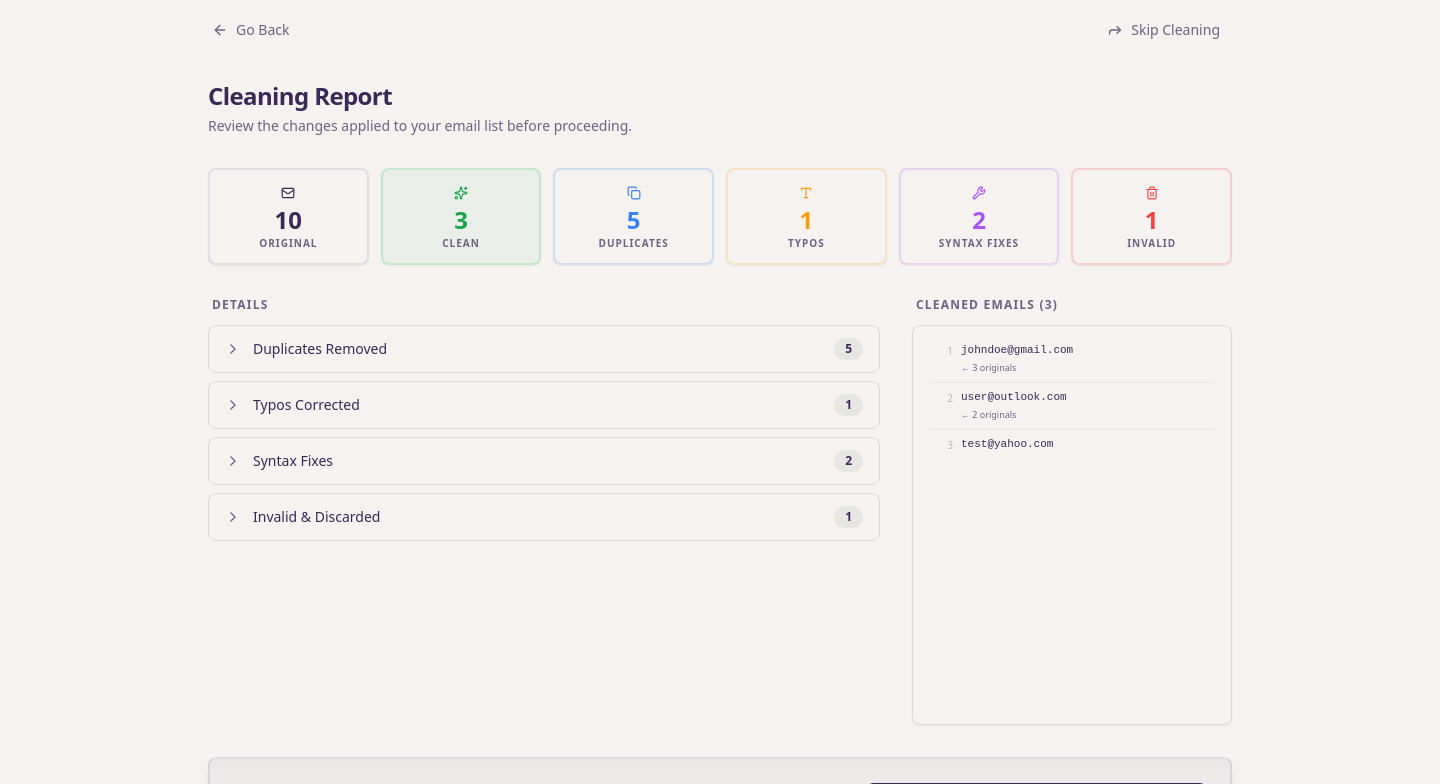
Test: CleaningReport › expands a section when clicked and shows details
The width and height of the screenshot is (1440, 784).
// Click on "Typos Corrected" section to expand it
Click the text "Typos Corrected".
click(306, 405)  # box 253,395 -> 360,415
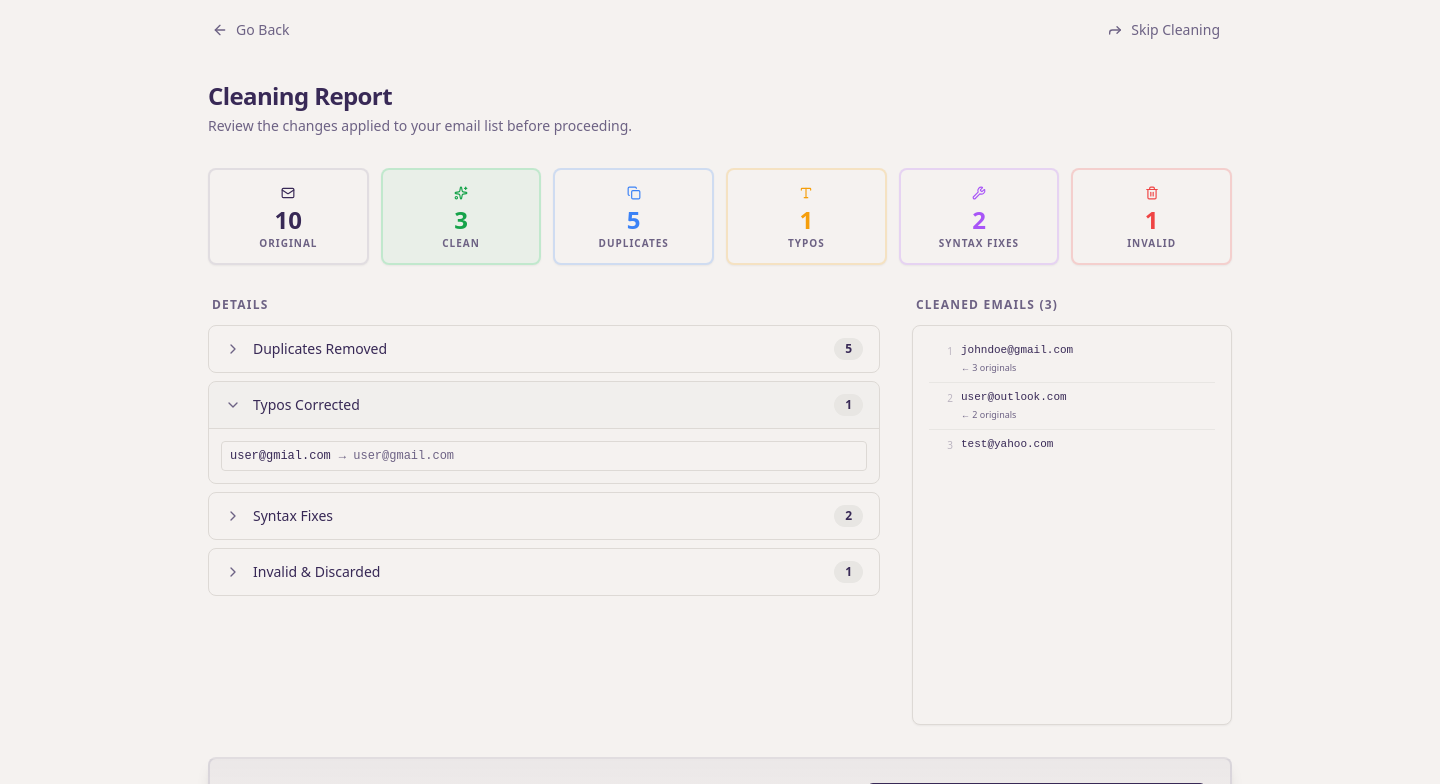
Expected: the text "user@gmial.com" is shown, 230,449 -> 331,463
Expected: the text "→ user@gmail.com" is shown, 339,449 -> 454,463
